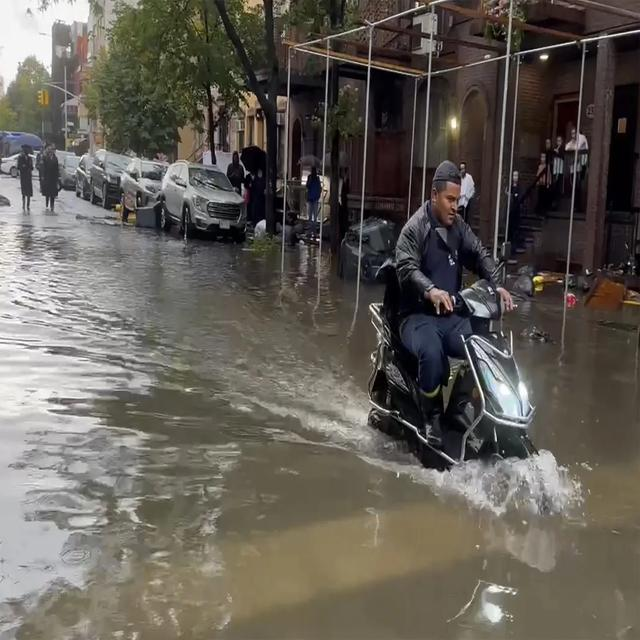Car-RiskLevel2: (158, 154, 263, 248)
Person-RiskLevel2: (390, 159, 510, 462)
